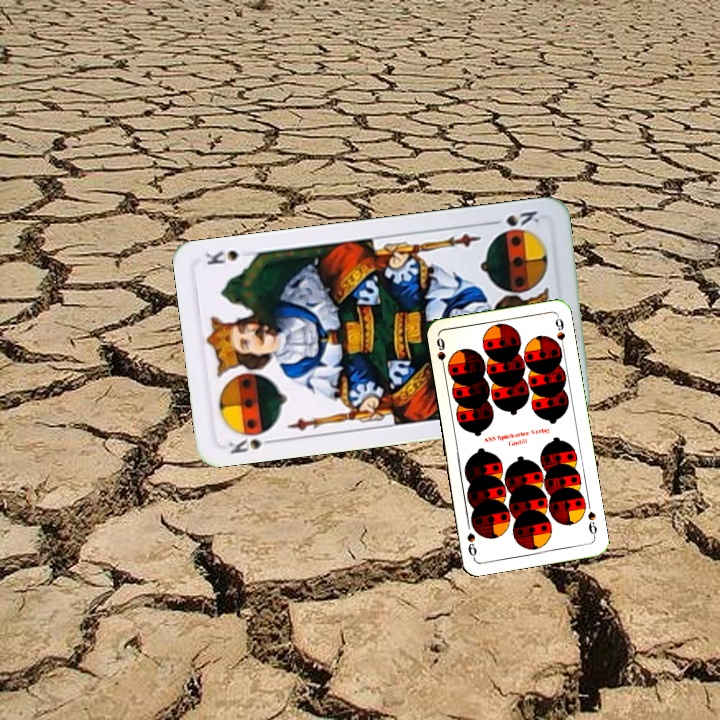S9: (432, 333, 448, 374), (583, 507, 599, 540)
SK: (225, 425, 279, 457), (485, 206, 542, 229)
